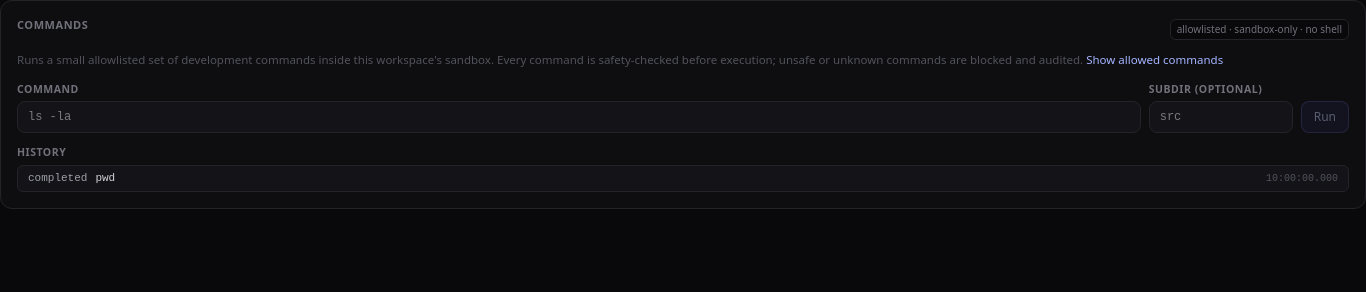
SandboxCommandsPanel › shows the allowed-commands help
Click the button "Show allowed commands" at (1155, 60), box x1=1086 y1=50 x2=1223 y2=70
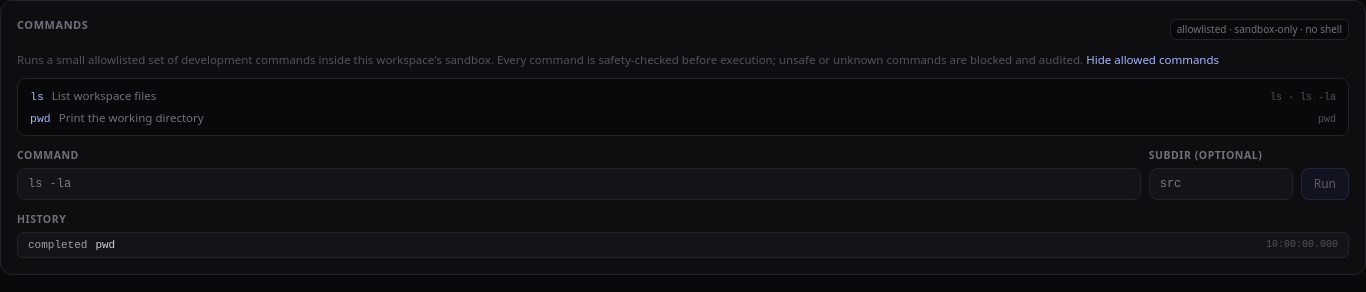
expect the element with test id "allowed-commands" shows "List workspace files": met, box x1=52 y1=88 x2=156 y2=102
expect the element with test id "allowed-commands" shows "pwd": met, box x1=30 y1=110 x2=51 y2=127
